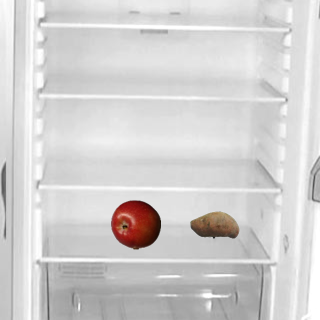Apple Braeburn: (110, 199, 160, 249)
Potato Sweet: (189, 199, 239, 249)
